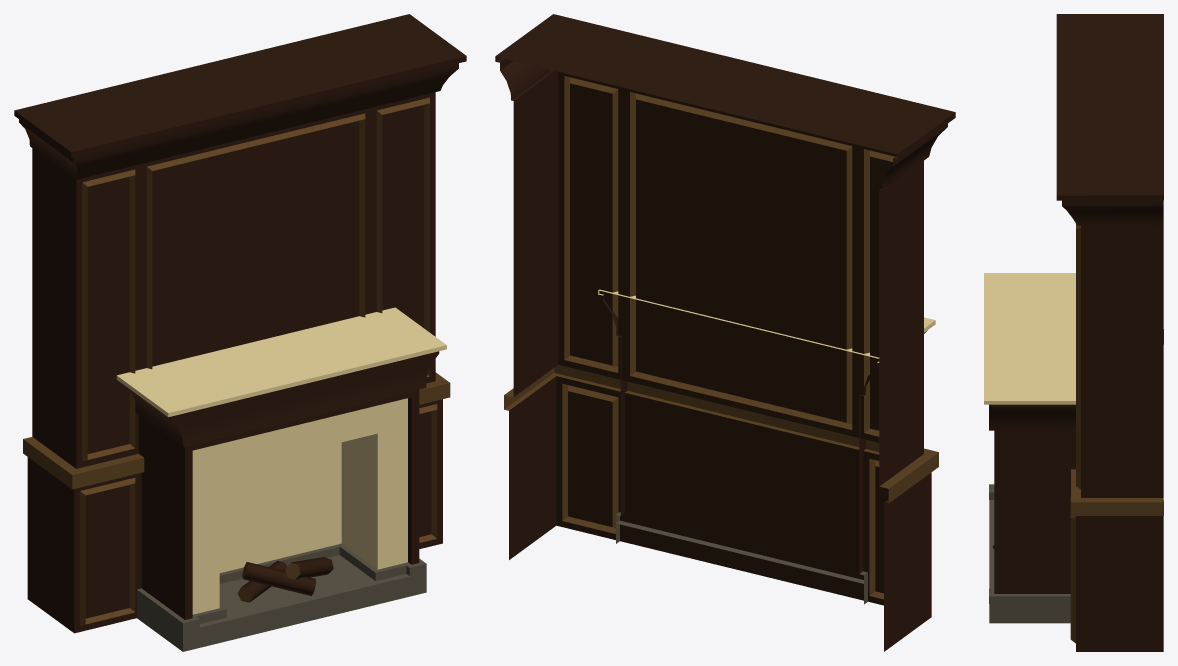
File: SM_Chimney_02.fbx
3 views of the same model, side by side, from view 1: azimuth 30°, elevation 25°; view 2: azimuth 150°, elevation 25°; view 3: azimuth 270°, elevation 25° (orthographic). The views are drawn at different scales.
Parts seen in each view (by area): view 1: SM_Chimney_02; view 2: SM_Chimney_02; view 3: SM_Chimney_02.
Boxes of the visible parts, x1=… form: SM_Chimney_02: x1=14, y1=14, x2=466, y2=651; SM_Chimney_02: x1=495, y1=14, x2=955, y2=651; SM_Chimney_02: x1=984, y1=14, x2=1163, y2=651.
Size of the model in its own units: 99.62 by 118 by 41.76.
